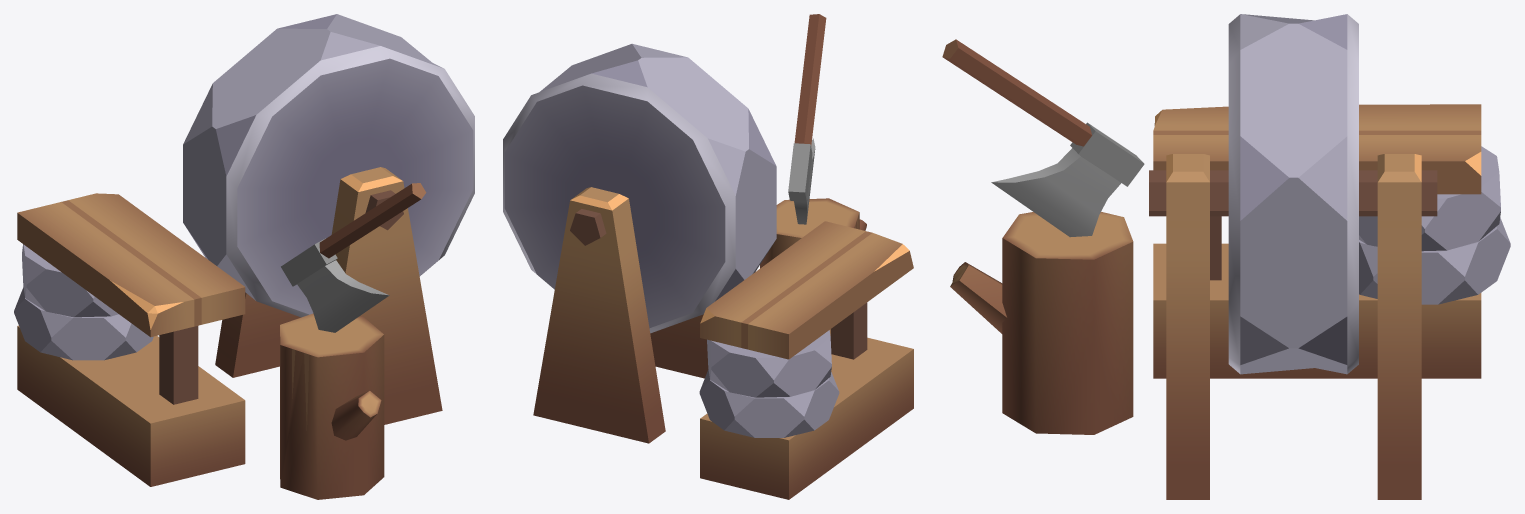
Rendered from Sharpener.fbx.
3 views of the same model, side by side, from view 1: azimuth 30°, elevation 25°; view 2: azimuth 150°, elevation 25°; view 3: azimuth 270°, elevation 25° (orthographic). The views are drawn at different scales.
Visible parts, largest first — view 1: Cube.002, Cylinder.009; view 2: Cube.002, Cylinder.009; view 3: Cube.002, Cylinder.009.
Boxes of the visible parts, x1,y1,x2,y2 form: Cube.002: (14, 167, 442, 499); Cylinder.009: (183, 14, 474, 317); Cube.002: (533, 14, 913, 499); Cylinder.009: (503, 43, 776, 333); Cube.002: (942, 39, 1510, 499); Cylinder.009: (1228, 14, 1358, 374).
Bounding box in the file's own units: 1.41 × 1.49 × 1.27.
